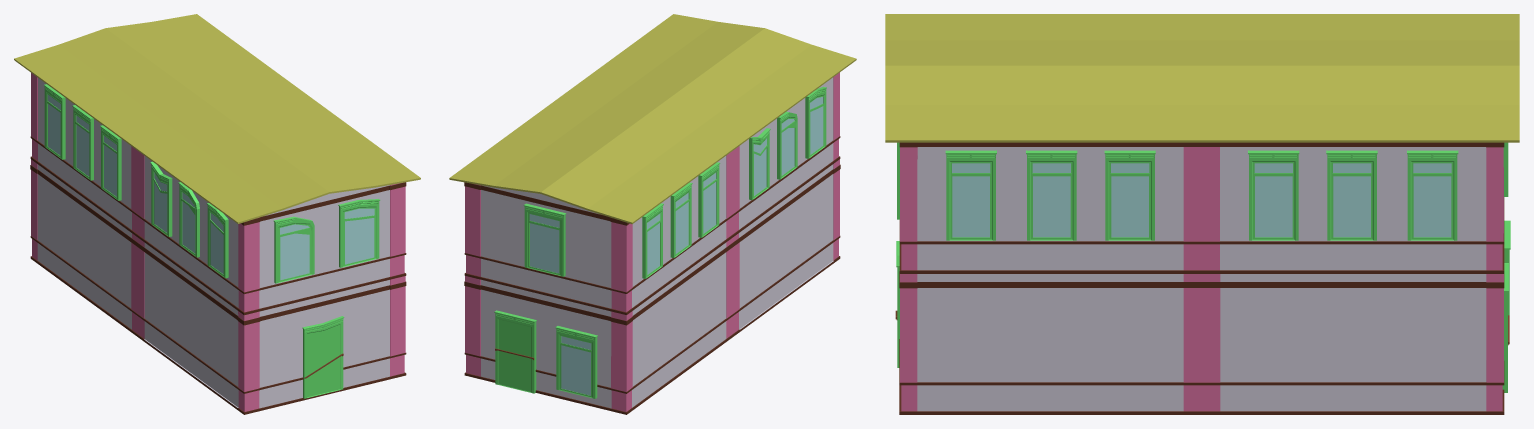
The model's file is House_structure_00_V4.fbx.
3 views of the same model, side by side, from view 1: azimuth 30°, elevation 25°; view 2: azimuth 150°, elevation 25°; view 3: azimuth 270°, elevation 25° (orthographic). The views are drawn at different scales.
Visible parts, largest first — view 1: House_structure_00.024; view 2: House_structure_00.024; view 3: House_structure_00.024.
Part boxes in pixels (box(x1,y1,x2,y2)): House_structure_00.024: box(14, 14, 420, 414); House_structure_00.024: box(449, 14, 856, 414); House_structure_00.024: box(885, 14, 1519, 414).
Size of the model in its own units: 577 by 624 by 1224.
